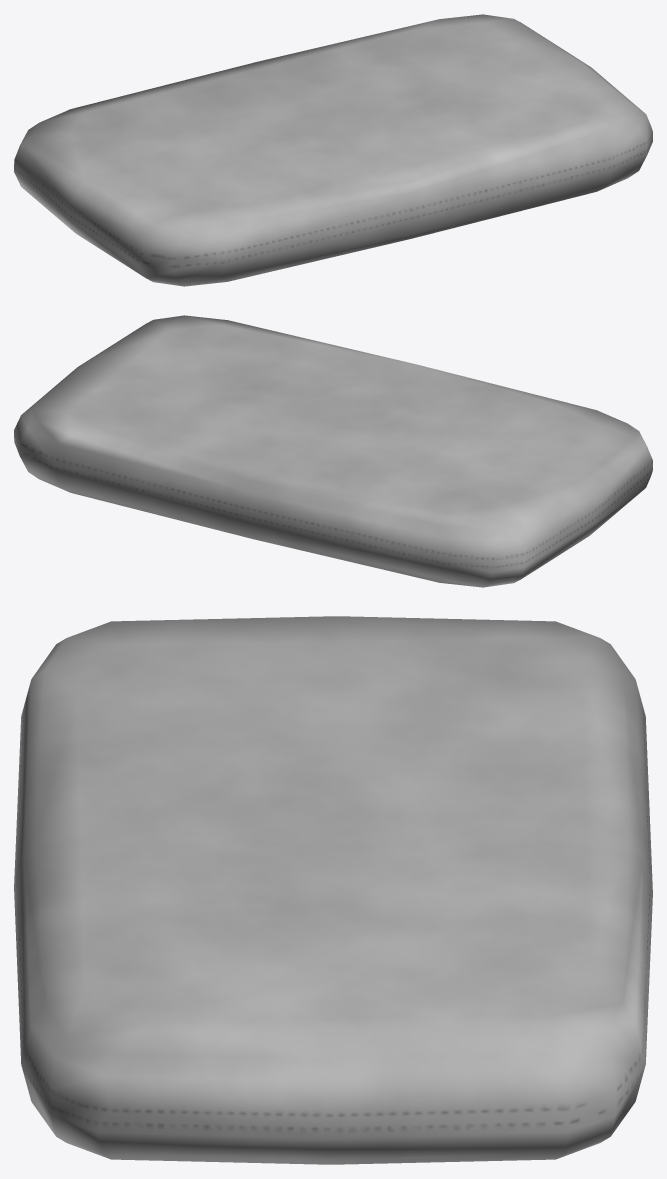
Rendered from LowerTorso_C1.fbx.
3 renders of one model, top to bottom at view 1: azimuth 30°, elevation 25°; view 2: azimuth 150°, elevation 25°; view 3: azimuth 270°, elevation 25°, orthographic. The views are drawn at different scales.
Visible parts, largest first — view 1: Civ_ChalecoObra_LowerTorso_C1; view 2: Civ_ChalecoObra_LowerTorso_C1; view 3: Civ_ChalecoObra_LowerTorso_C1.
Boxes of the visible parts, left/top/right/bottom form: Civ_ChalecoObra_LowerTorso_C1: left=14, top=14, right=652, bottom=286; Civ_ChalecoObra_LowerTorso_C1: left=14, top=315, right=652, bottom=587; Civ_ChalecoObra_LowerTorso_C1: left=14, top=616, right=652, bottom=1164.
Bounding box in the file's own units: 2.25 × 0.2805 × 1.29.
